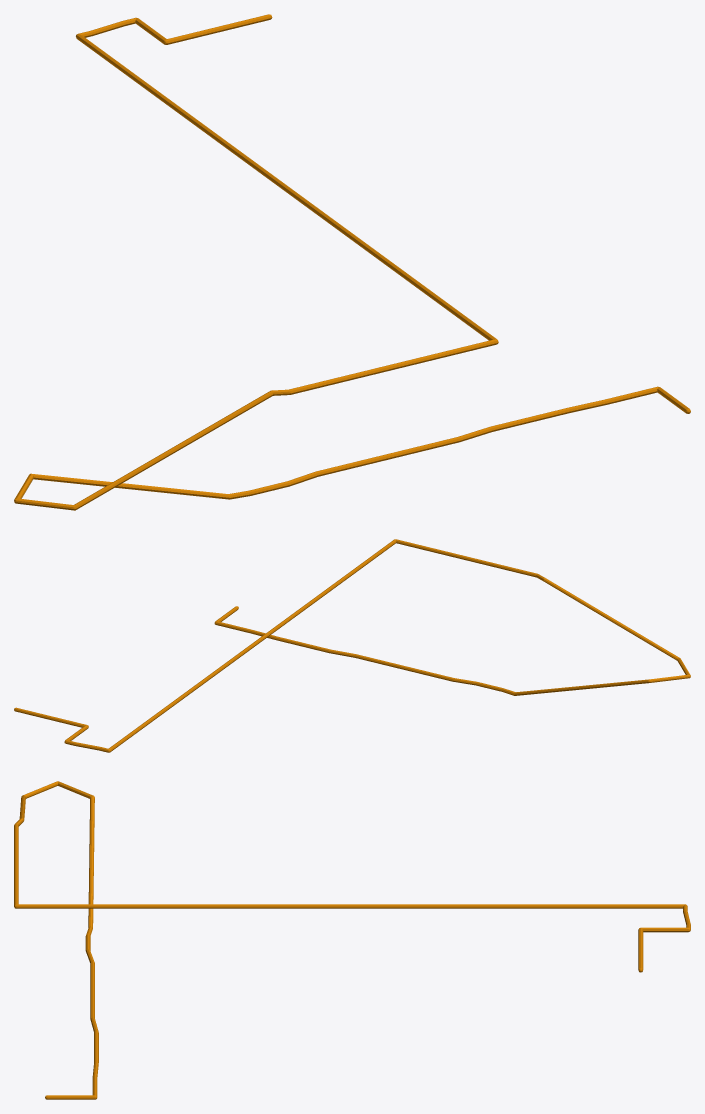
3 renders of one model, top to bottom at view 1: azimuth 30°, elevation 25°; view 2: azimuth 150°, elevation 25°; view 3: azimuth 270°, elevation 25°, orthographic. The views are drawn at different scales.
Bounding box in the file's own units: 2595 × 520 × 2834.
